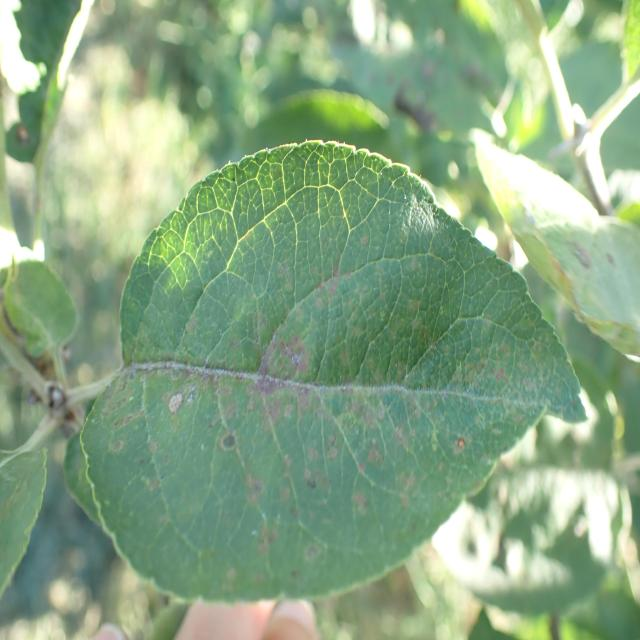frog-eye-leaf-spot: (63, 138, 589, 607)
